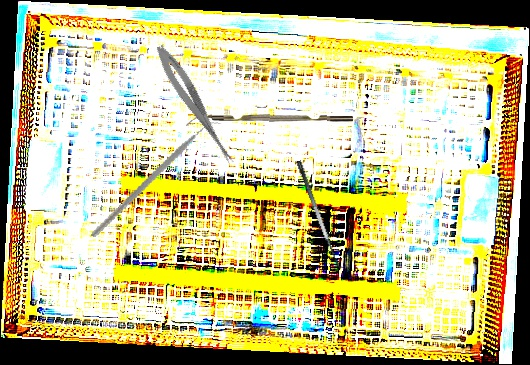Chopper: (90, 99, 225, 261), (186, 113, 353, 129)
Micro Scissor: (150, 41, 242, 168)
Spatula Surgical: (295, 157, 348, 271)
